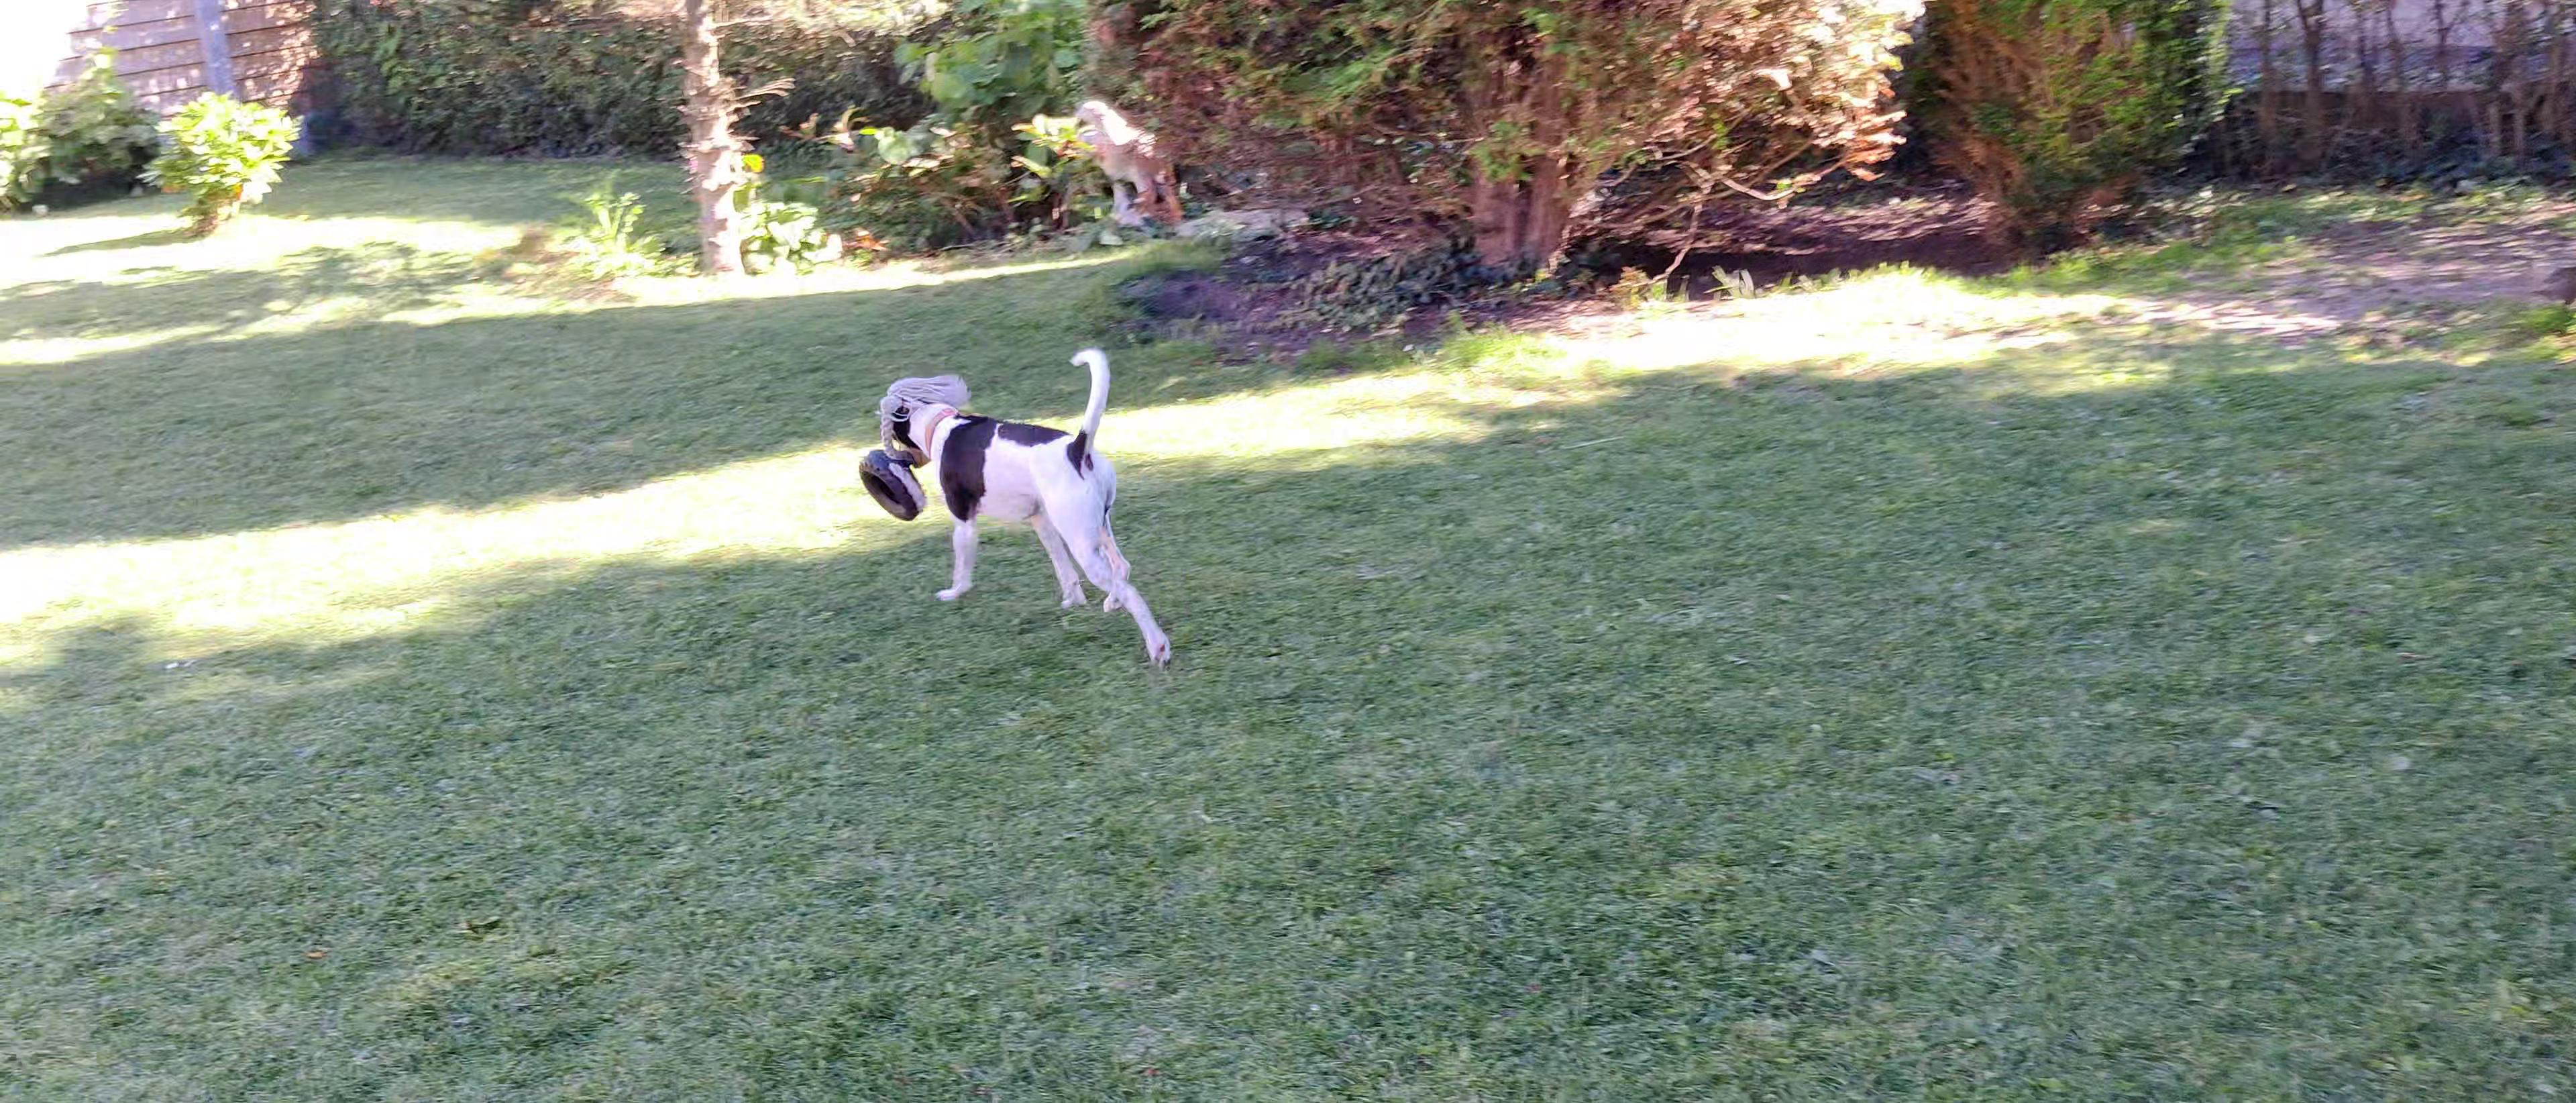Dog: (856, 312, 1188, 674)
